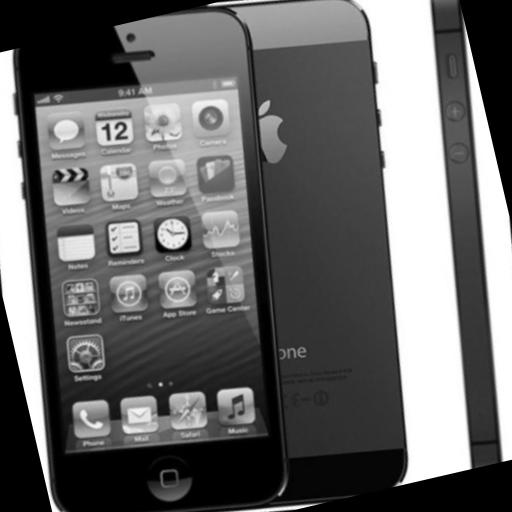phone: (17, 9, 286, 512), (217, 0, 407, 510), (426, 0, 505, 469)
